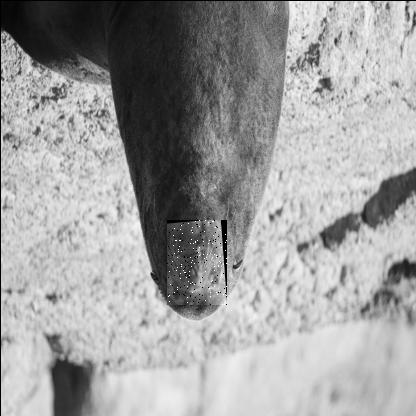face: (165, 218, 226, 304)
